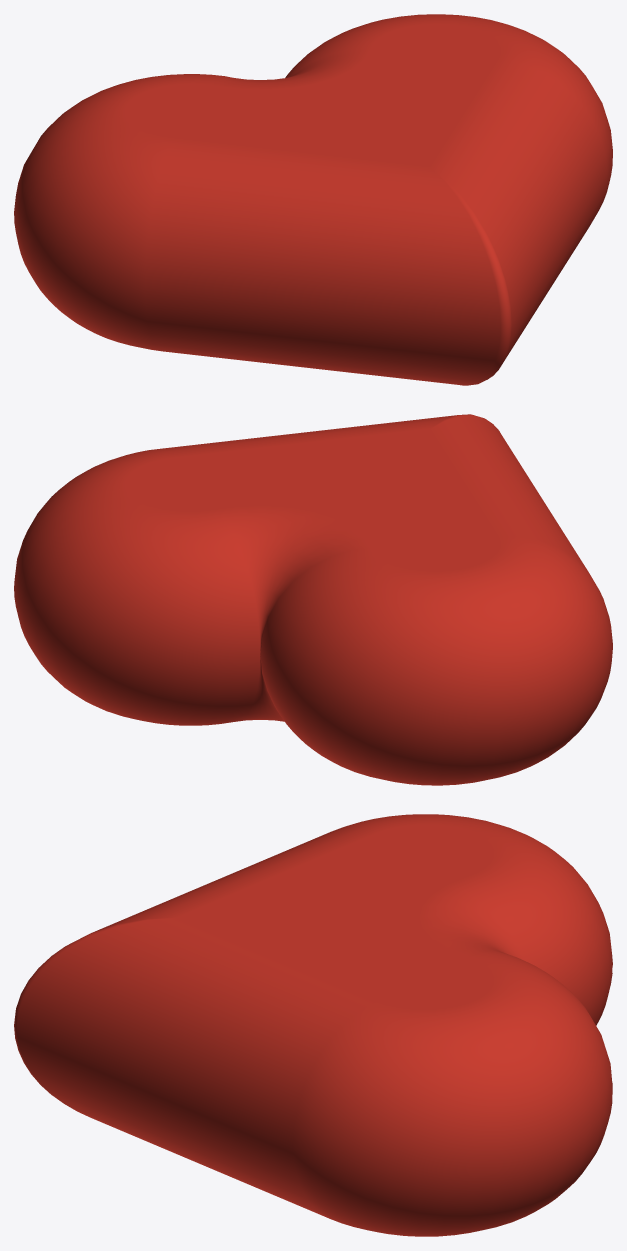
Rendered from 3d Heart.fbx.
3 views of the same model, one above another, from view 1: azimuth 30°, elevation 25°; view 2: azimuth 150°, elevation 25°; view 3: azimuth 270°, elevation 25° (orthographic). The views are drawn at different scales.
Parts seen in each view (by area): view 1: Body1; view 2: Body1; view 3: Body1.
Part boxes in pixels (bbox=[...]): Body1: bbox=[14, 14, 612, 385]; Body1: bbox=[14, 414, 612, 785]; Body1: bbox=[14, 814, 612, 1236].
Size of the model in its own units: 7.08 by 2.5 by 6.29.
